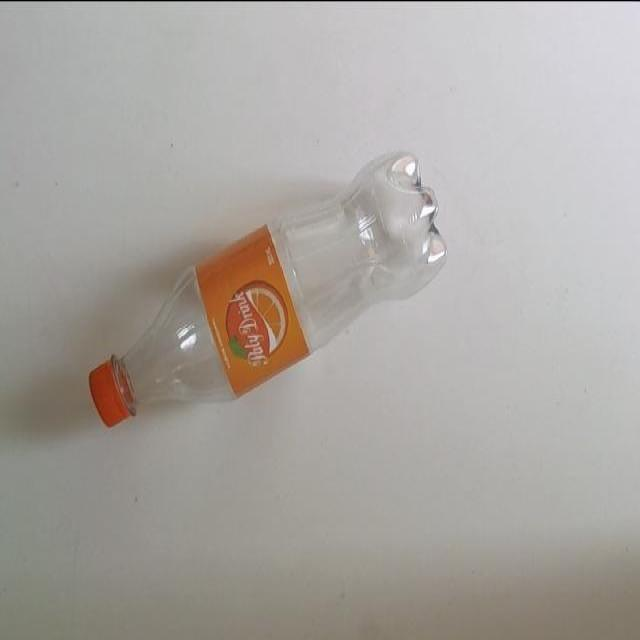non-defect: (87, 147, 450, 429)
